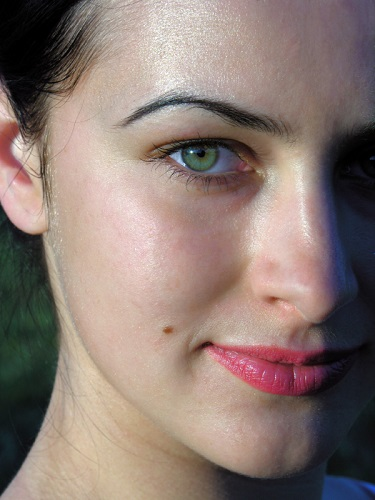tahilalat: (161, 323, 176, 338)
